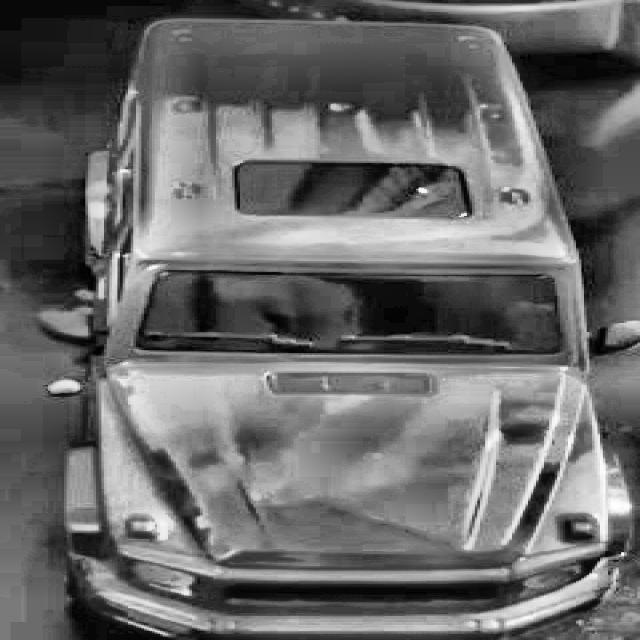light_vehicle: (45, 4, 637, 640)
